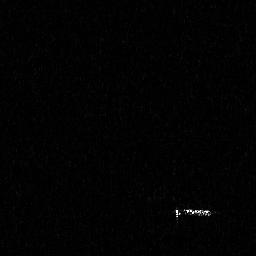ship: (171, 205, 217, 223)
